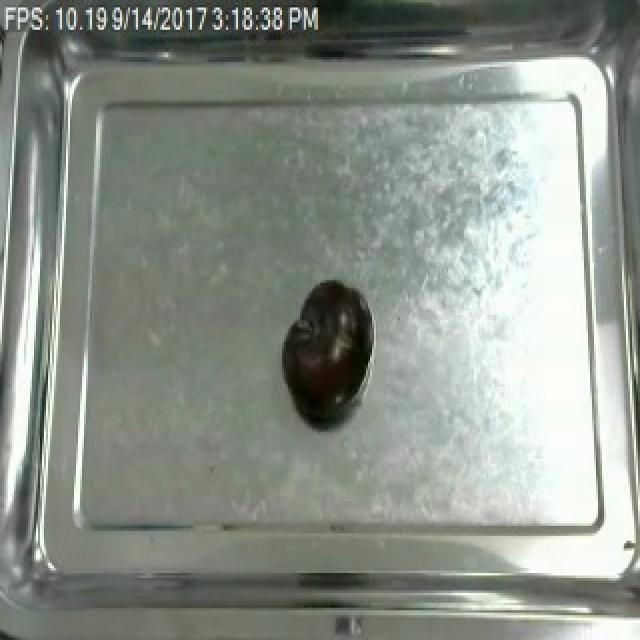Fruit: (278, 275, 366, 422)
